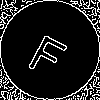F: (25, 25, 74, 80)
